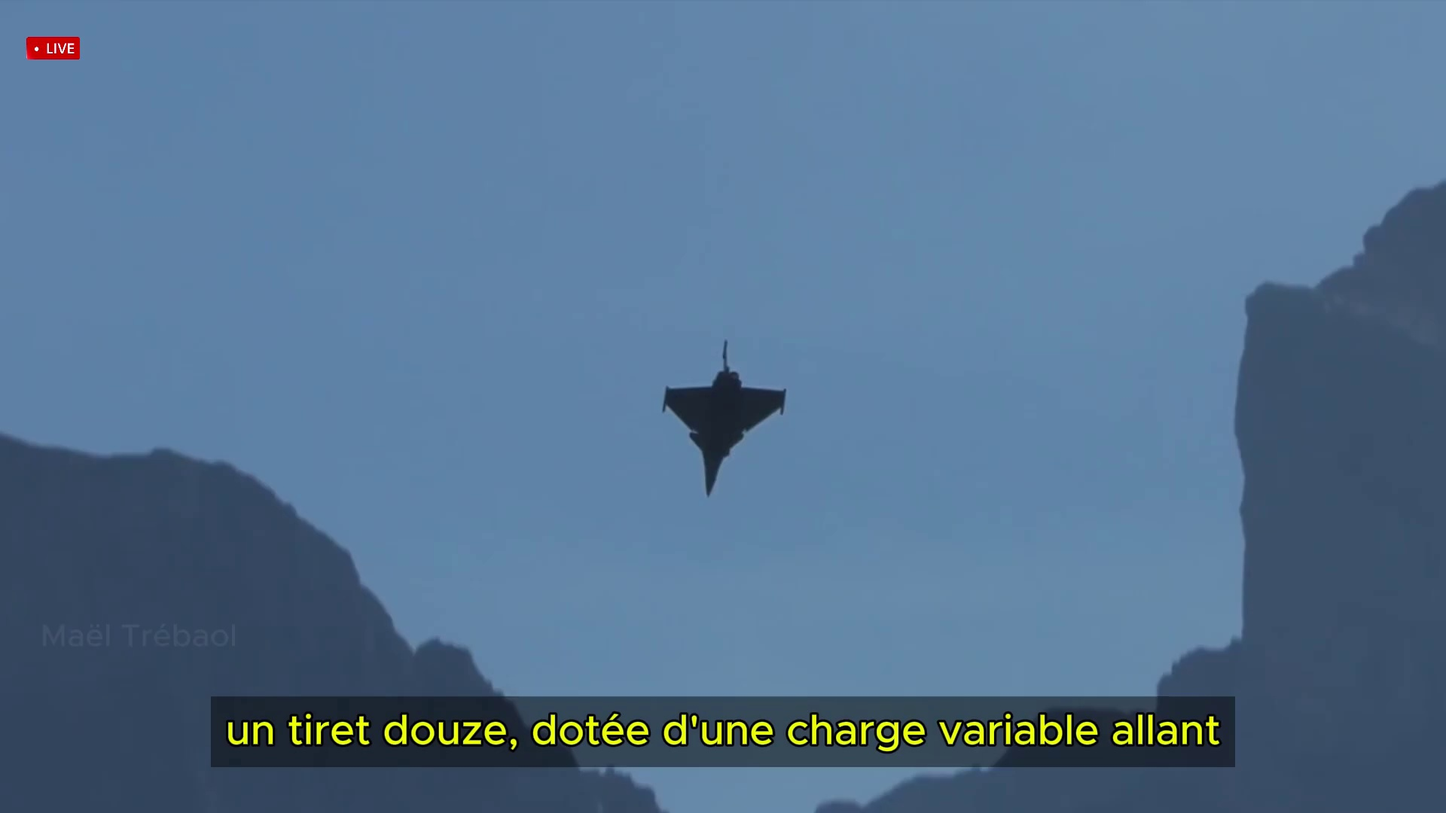Rafale: (657, 336, 791, 501)
